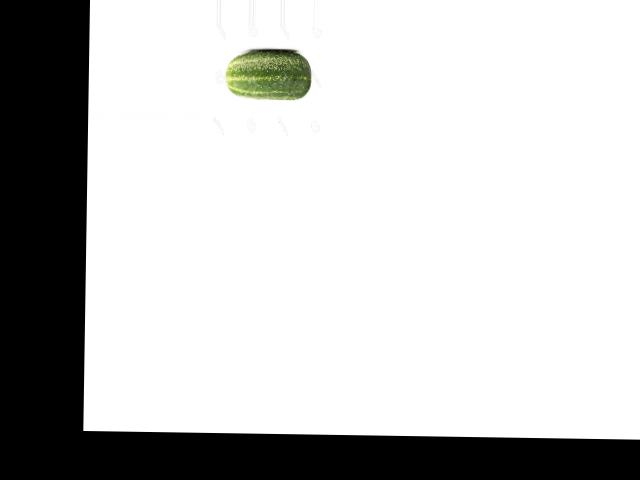cucumber: (226, 49, 312, 100)
